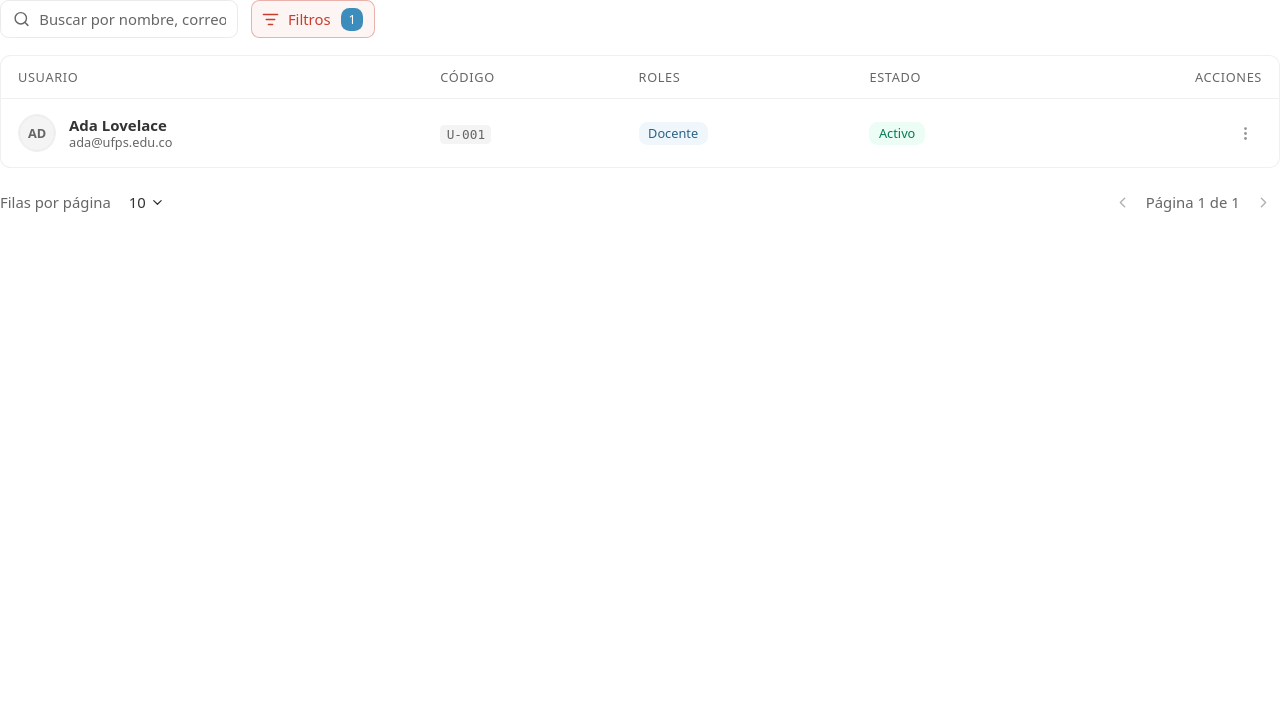
Test: UsersList › cierra al guardar y, al reabrir, trae los datos actuales del usuario
The image size is (1280, 720).
Click the button named "Acciones" at coordinates (1245, 133), box [1228,116,1262,150]
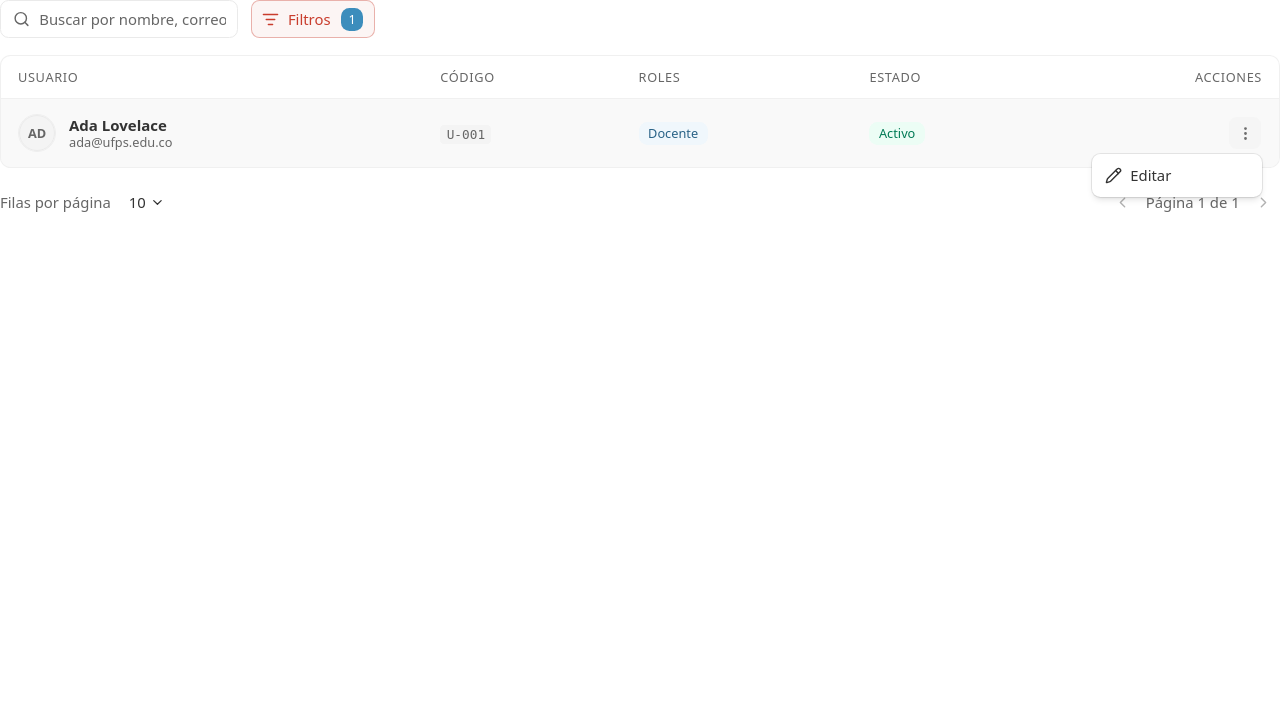
Click the menu item "Editar" at coordinates (1138, 175), box [1105,165,1171,185]
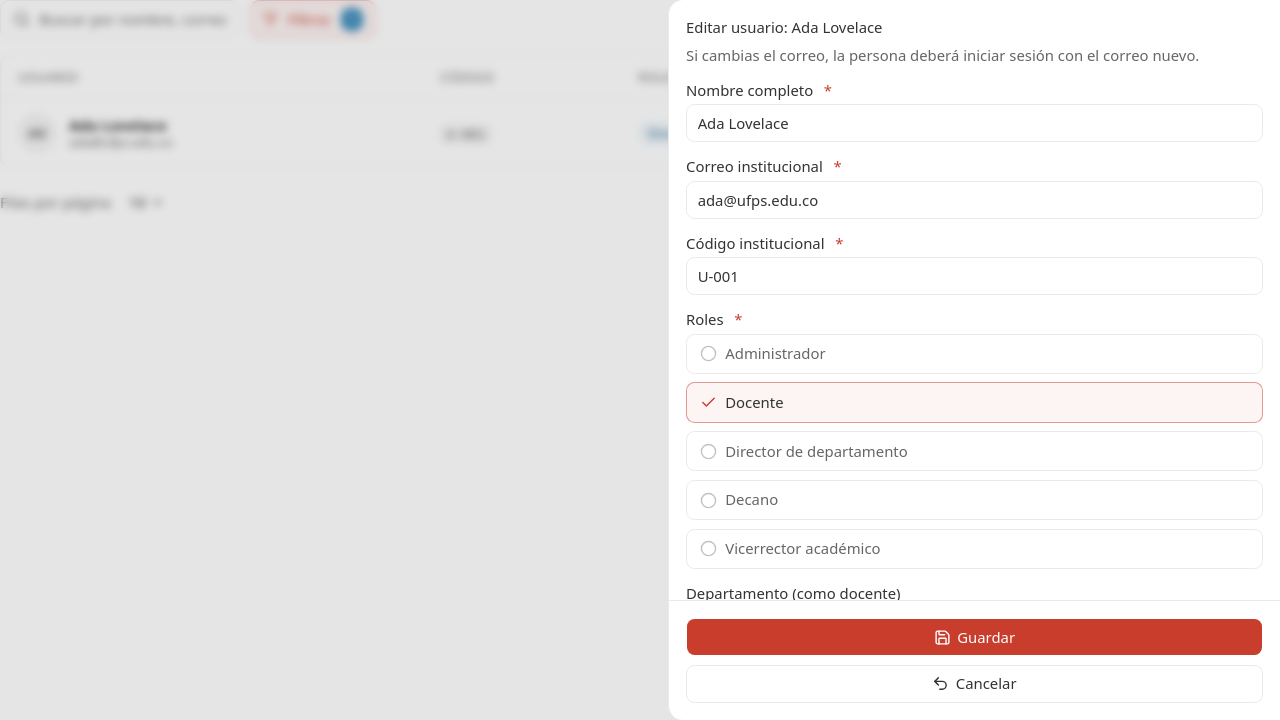
Check: the heading "Editar usuario: Ada Lovelace" is shown, box [686,17,882,37]
Click the button "Guardar" at coordinates (974, 637), box [686,618,1263,656]
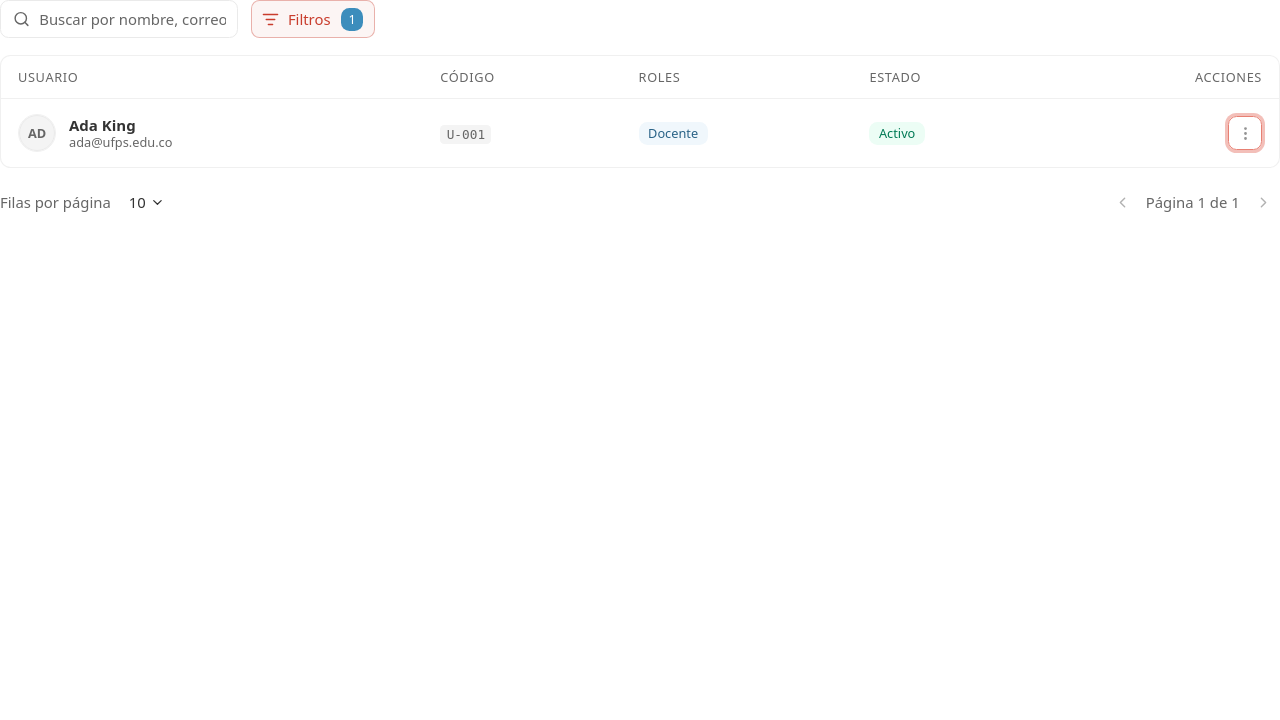
Check: the heading "Editar usuario: Ada Lovelace" is gone
Click the button named "Acciones" at coordinates (1245, 133), box [1228,116,1262,150]
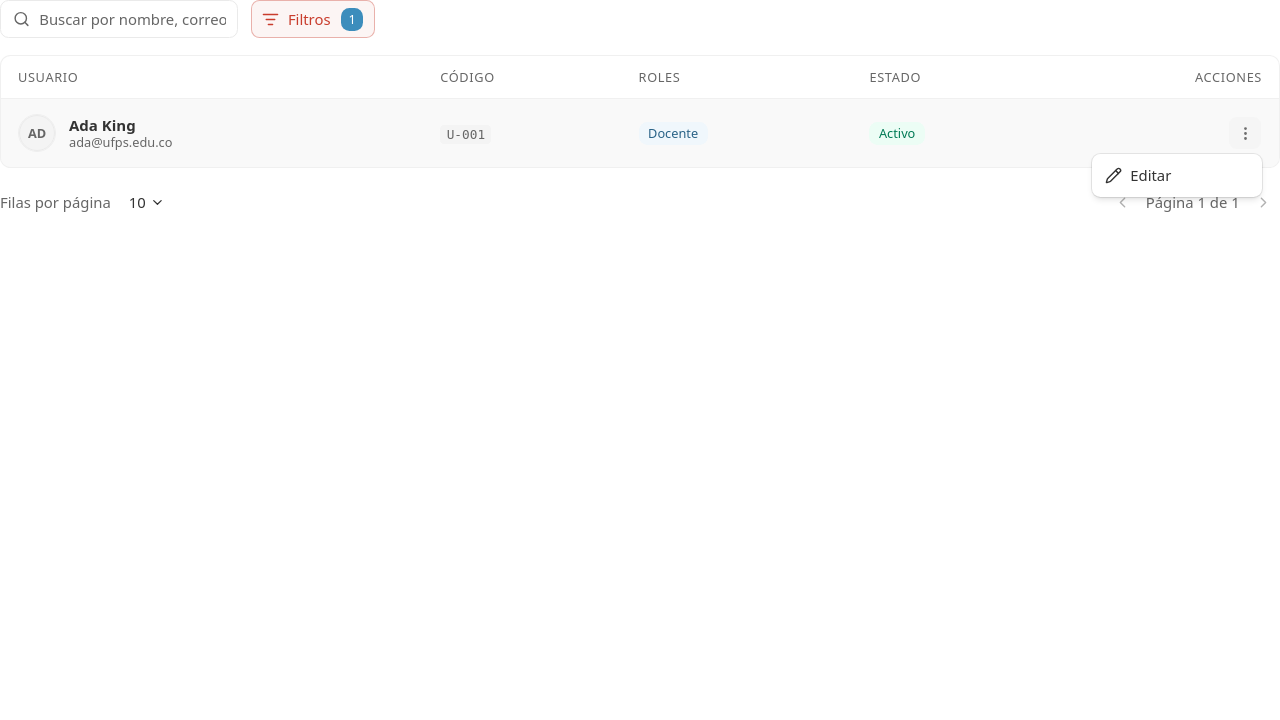
Click the menu item "Editar" at coordinates (1138, 175), box [1105,165,1171,185]
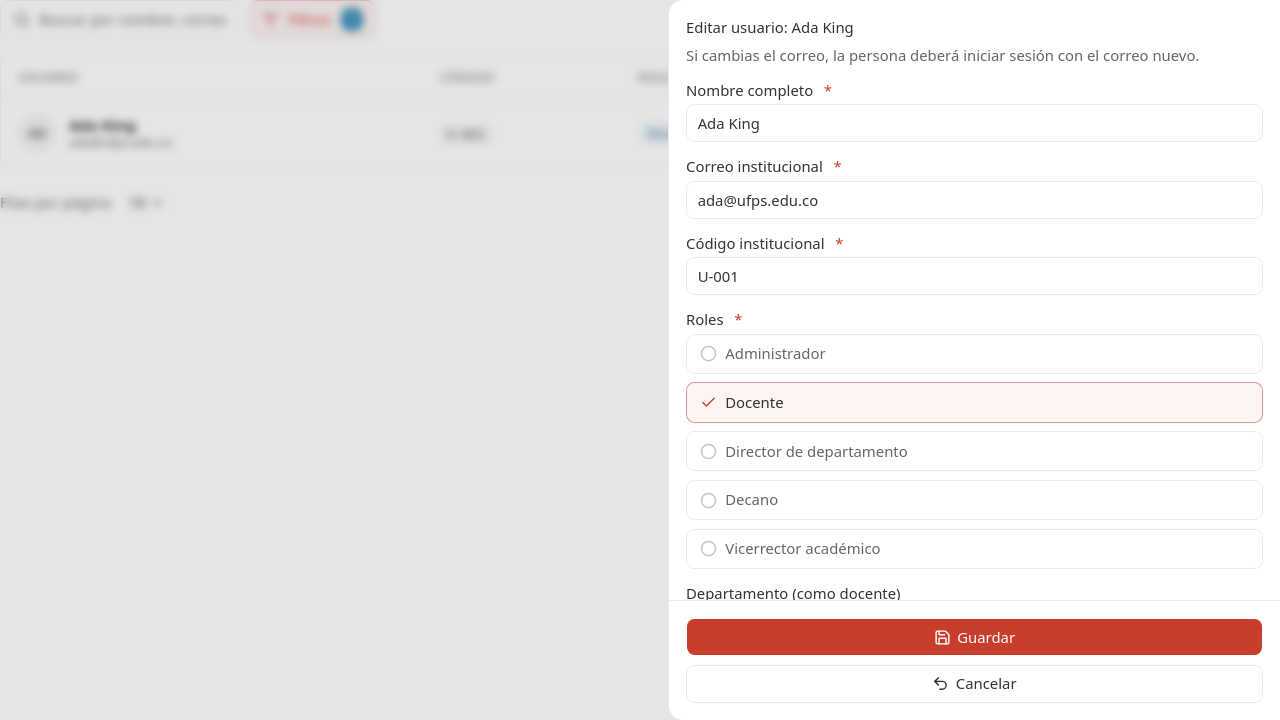
Check: the field labelled "Nombre completo *" holds "Ada King", box [686,104,1263,142]
